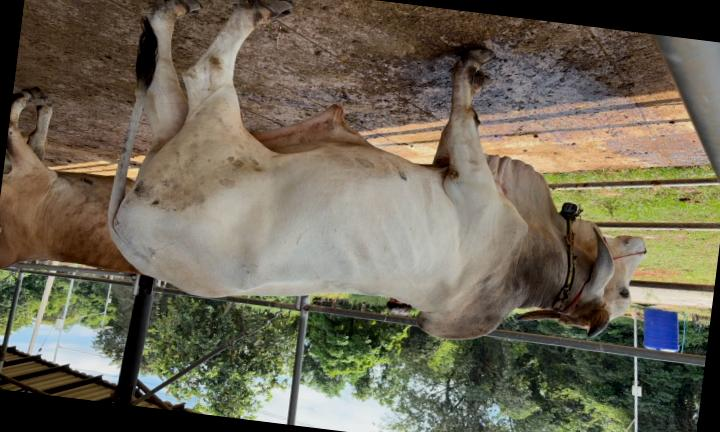Brahman: (107, 0, 644, 339)
